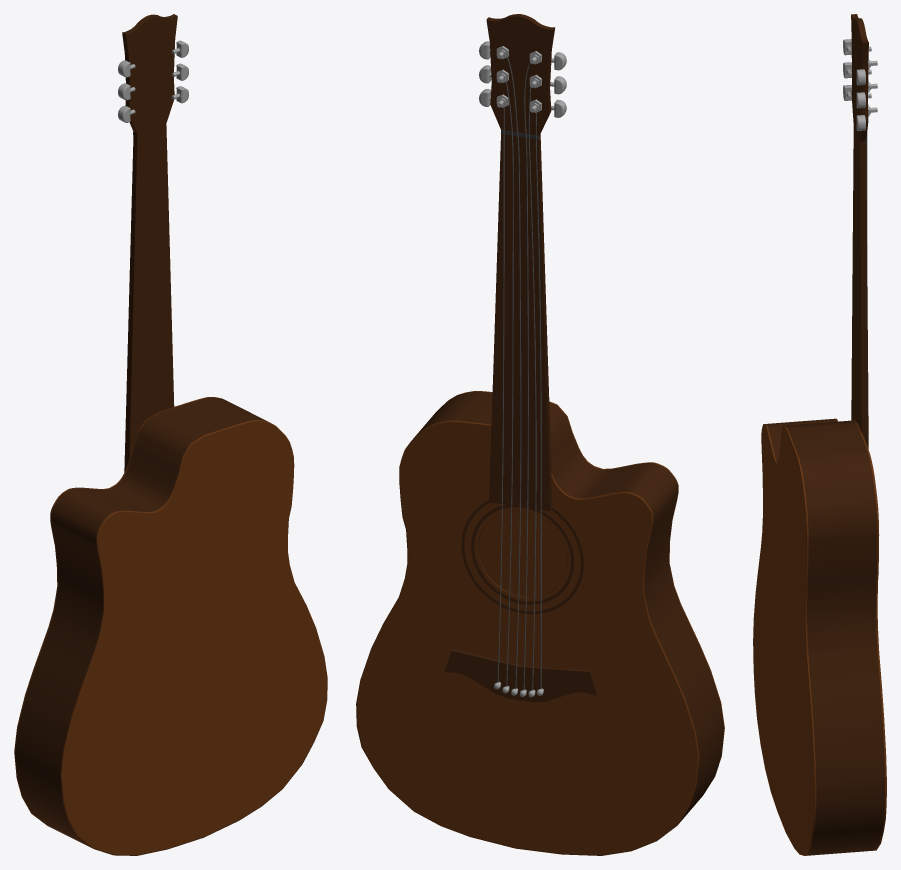
Rendered from Guiter2.glb.
3 renders of one model, left to right at view 1: azimuth 30°, elevation 25°; view 2: azimuth 150°, elevation 25°; view 3: azimuth 270°, elevation 25°, orthographic. The views are drawn at different scales.
Parts seen in each view (by area): view 1: Body, Body Sides, Handle, Tuners; view 2: Body, Handle, Body Sides, Strings, Bridge, Rosette, Tuners, Capstans; view 3: Body Sides, Body, Handle, Tuners.
Boxes of the visible parts, x1,y1,x2,y2 form: Body: (14, 397, 327, 855); Body Sides: (15, 397, 266, 847); Handle: (122, 14, 177, 472); Tuners: (118, 40, 188, 122); Body: (356, 391, 724, 855); Handle: (486, 14, 555, 511); Body Sides: (411, 391, 724, 823); Strings: (497, 57, 541, 690); Bridge: (444, 649, 597, 702); Rosette: (461, 500, 583, 614); Tuners: (479, 41, 566, 117); Capstans: (496, 46, 541, 112); Body Sides: (766, 418, 885, 855); Body: (753, 418, 886, 855); Handle: (851, 14, 868, 448); Tuners: (843, 39, 865, 130).
Size of the model in its own units: 0.5459 by 1.35 by 0.2038.
